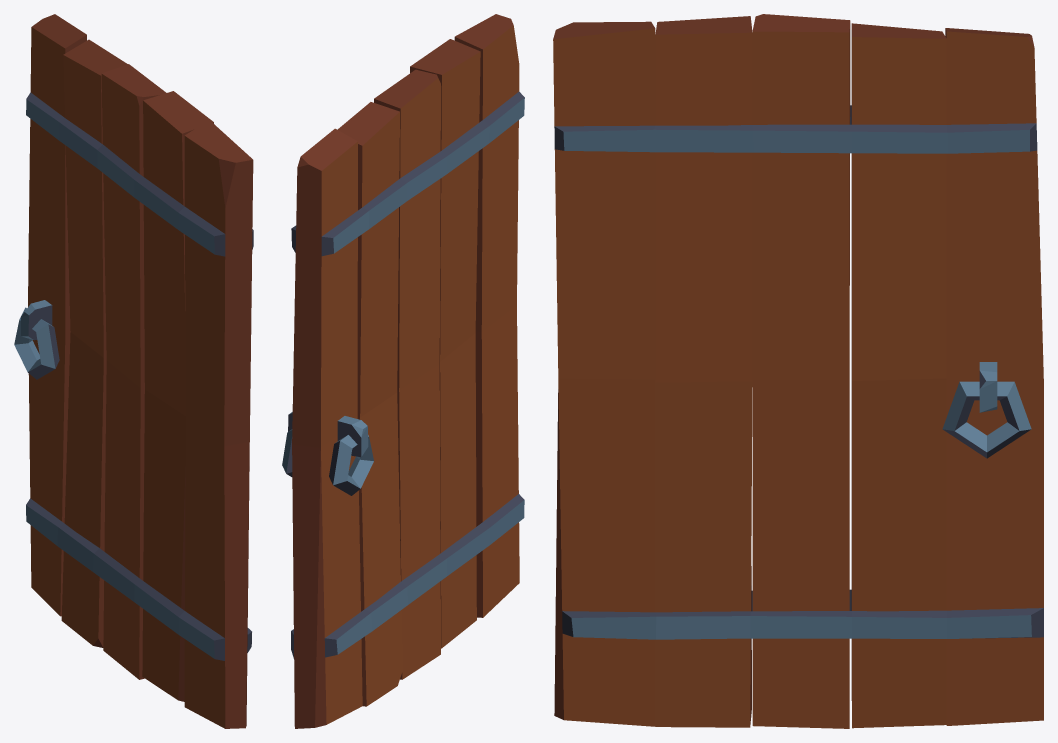
File: Mesh_Door_Small.fbx
The picture shows the model from 3 angles, left to right: view 1: azimuth 30°, elevation 25°; view 2: azimuth 150°, elevation 25°; view 3: azimuth 270°, elevation 25°; orthographic projection. The views are drawn at different scales.
Visible parts, largest first — view 1: SM_Door_Small; view 2: SM_Door_Small; view 3: SM_Door_Small.
Boxes of the visible parts, x1=… form: SM_Door_Small: x1=14, y1=14, x2=253, y2=728; SM_Door_Small: x1=282, y1=14, x2=524, y2=728; SM_Door_Small: x1=553, y1=14, x2=1043, y2=728.
Bounding box in the file's own units: 0.3029 × 2.33 × 1.47.
